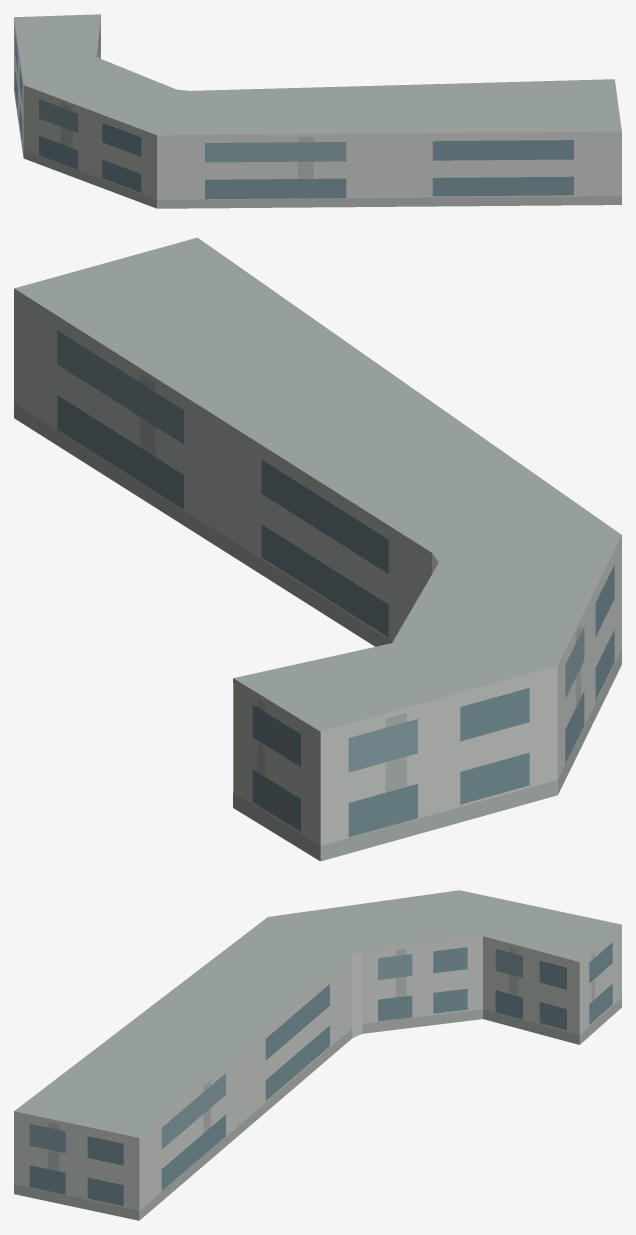
The model's file is survey-upis-32847079.glb.
3 renders of one model, top to bottom at view 1: azimuth 30°, elevation 25°; view 2: azimuth 150°, elevation 25°; view 3: azimuth 270°, elevation 25°, orthographic. The views are drawn at different scales.
Visible parts, largest first — view 1: survey-upis-32847079.tmp; view 2: survey-upis-32847079.tmp; view 3: survey-upis-32847079.tmp.
Boxes of the visible parts, box(x1,y1,x2,y2) form: survey-upis-32847079.tmp: box(14, 14, 621, 208); survey-upis-32847079.tmp: box(14, 237, 621, 861); survey-upis-32847079.tmp: box(14, 890, 621, 1220).
Bounding box in the file's own units: 39.09 × 6.1 × 40.54.
